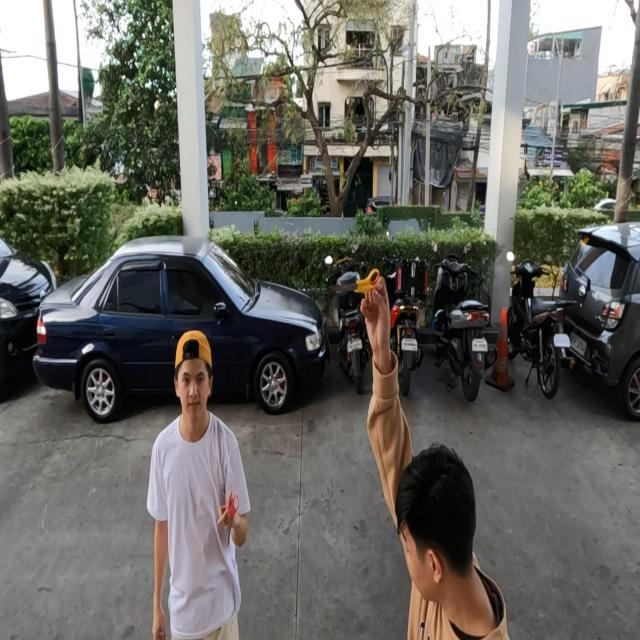scissor: (329, 267, 380, 303), (227, 492, 240, 548)
